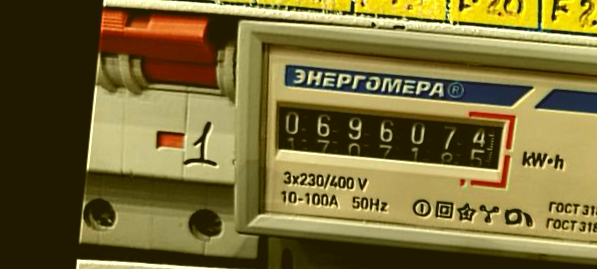0: (281, 109, 302, 136), (407, 119, 427, 146)
4: (470, 124, 488, 148)
5: (467, 147, 485, 168)
6: (376, 115, 396, 144), (313, 111, 333, 138)
7: (439, 123, 458, 150)
9: (345, 113, 363, 141)
screen: (259, 87, 519, 192)
